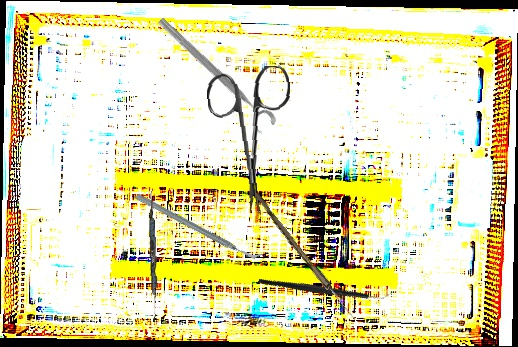Chopper: (134, 157, 263, 295), (257, 234, 393, 341)
Fixation Ring: (149, 13, 279, 138)
Iris Scissors: (205, 64, 299, 217)
Spatula Surgical: (146, 191, 160, 322)
Surgical Spoon: (251, 192, 359, 322)
